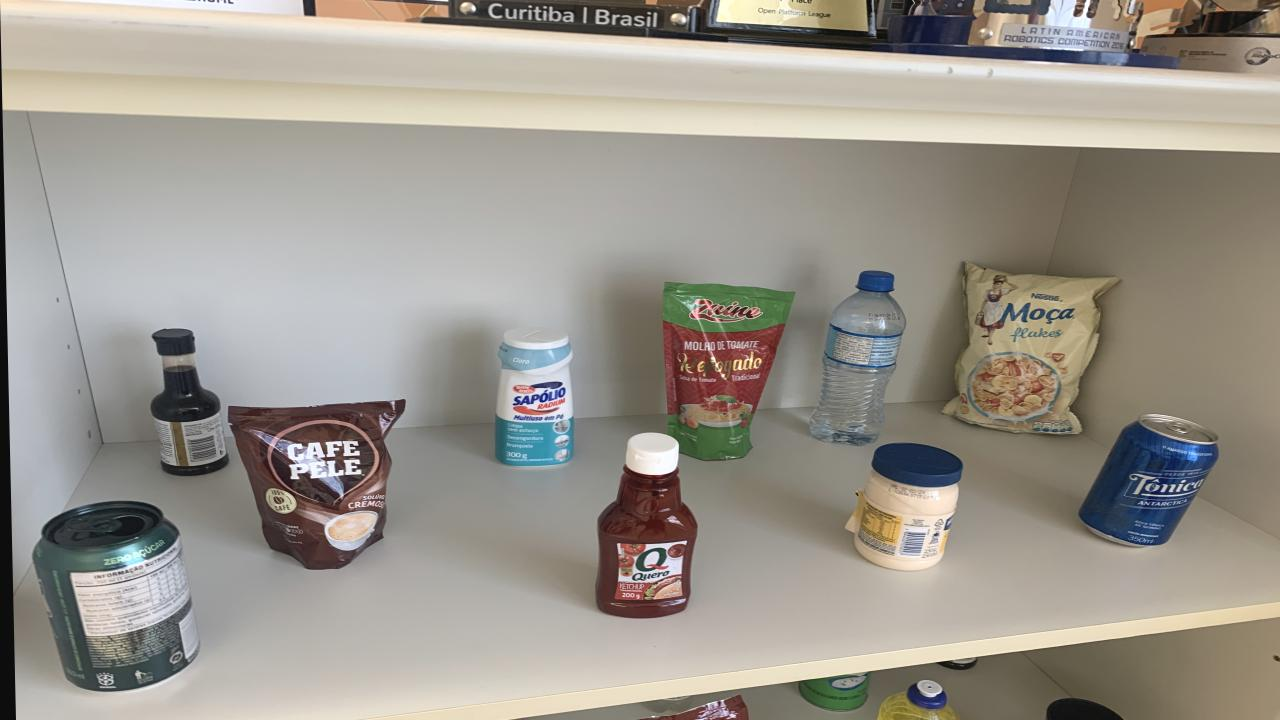Cleaner-Cleanup_Items: (492, 326, 573, 467)
Coffee-Pantry_Items: (227, 399, 402, 570)
Detergent-Cleanup_Items: (875, 681, 955, 720)
English_Sauce-Pantry_Items: (149, 328, 226, 476)
Flakes-Snacks: (940, 262, 1117, 435)
Guarana_Can-Drinks: (30, 501, 196, 692)
Ketchup-Pantry_Items: (593, 433, 694, 617)
Mayonnaise-Pantry_Items: (847, 442, 961, 570), (1042, 698, 1120, 720)
Pringles-Snacks: (794, 671, 867, 711)
Tomato_Sauce-Pantry_Items: (661, 283, 793, 459), (643, 696, 745, 720)
Tonic-Drinks: (1076, 414, 1216, 546)
Water_Bottle-Drinks: (807, 272, 906, 446)
